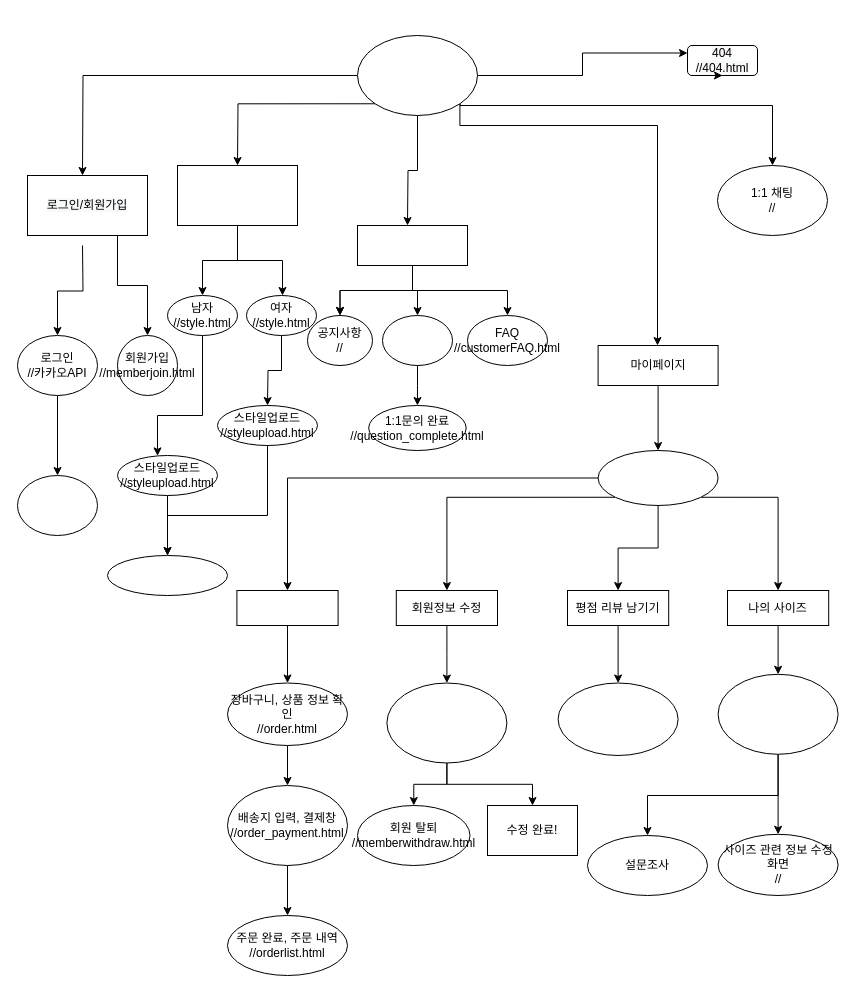
Image size: 856x993. Some labels were removed from this diagram. Here are the shapes that lost their labels. From the top down, the centre of each, then its label:
At (x=417, y=75): "메인페이지 //index.html".
At (x=237, y=195): "스타일리스트".
At (x=412, y=245): "고객센터".
At (x=417, y=340): "1:1문의 //question.html".
At (x=657, y=478): "마이페이지 //mypage.html".
At (x=57, y=505): "로그인완료화면 //welcome.html".
At (x=167, y=575): "스타일 등록 완료 //stylelistPage.html".
At (x=287, y=608): "주문 조회".
At (x=446, y=722): "회원정보 변경 //memberinfo.html".
At (x=617, y=719): "평점, 리뷰 남기기 //leave_evalutaion.html".
At (x=777, y=713): "사이즈 관련 정보 화면 //".
